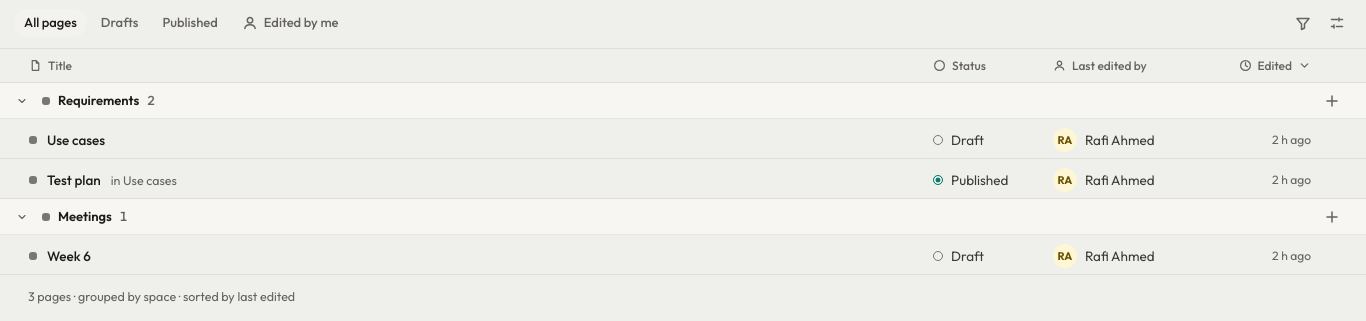
team pages list › collapsingAGroupHidesItsRowsAndIsRemembered
The image size is (1366, 321).
Check: the link "Use cases" is shown, box [29,131,105,149]
Step 1. Click the button named "Collapse Requirements" → (22, 101), box [10,89,34,113]
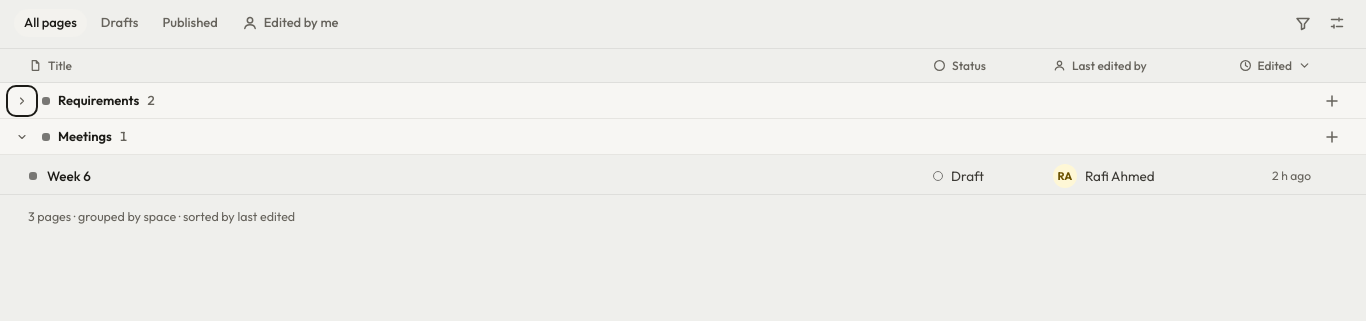
Check: the link "Use cases" is gone
